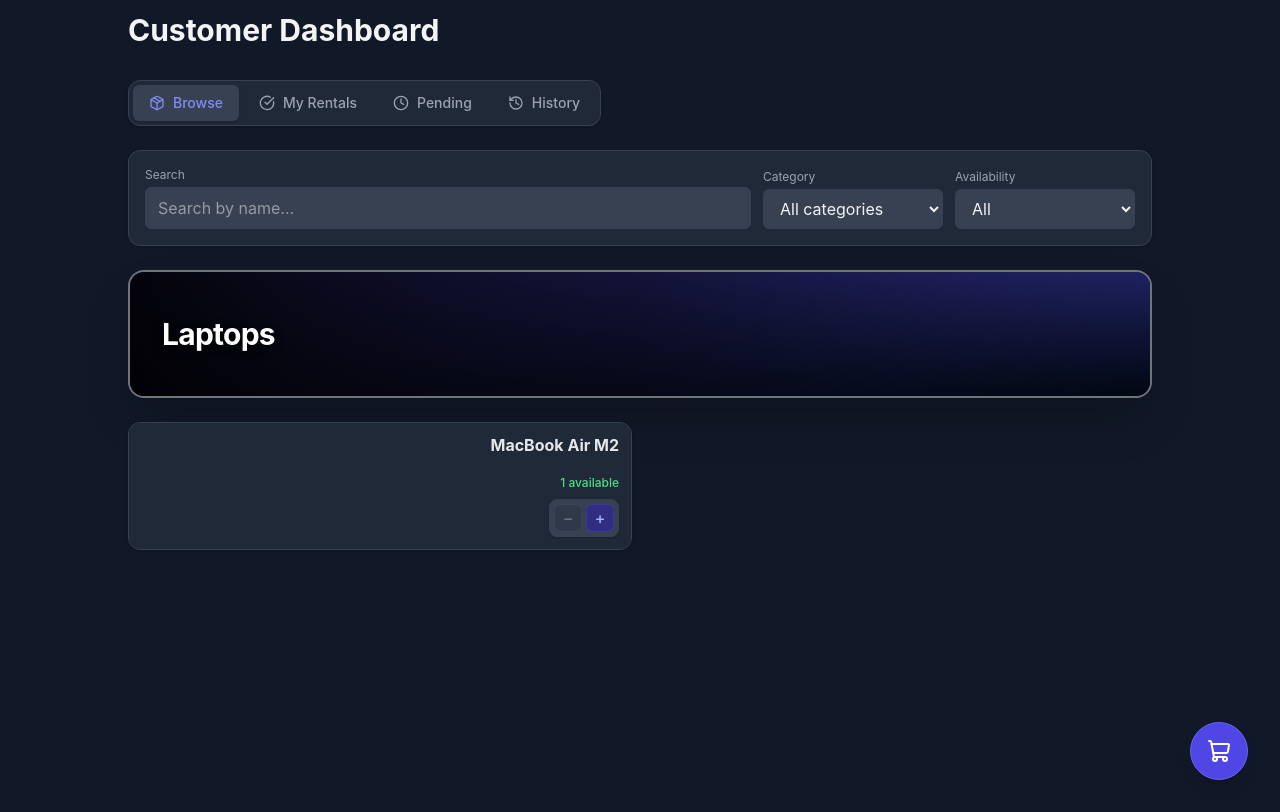
Test: CustomerDashboard — tab switching › switching to "History" shows the rental history empty state
Click the button "History" at (544, 103), box [492,85,596,121]
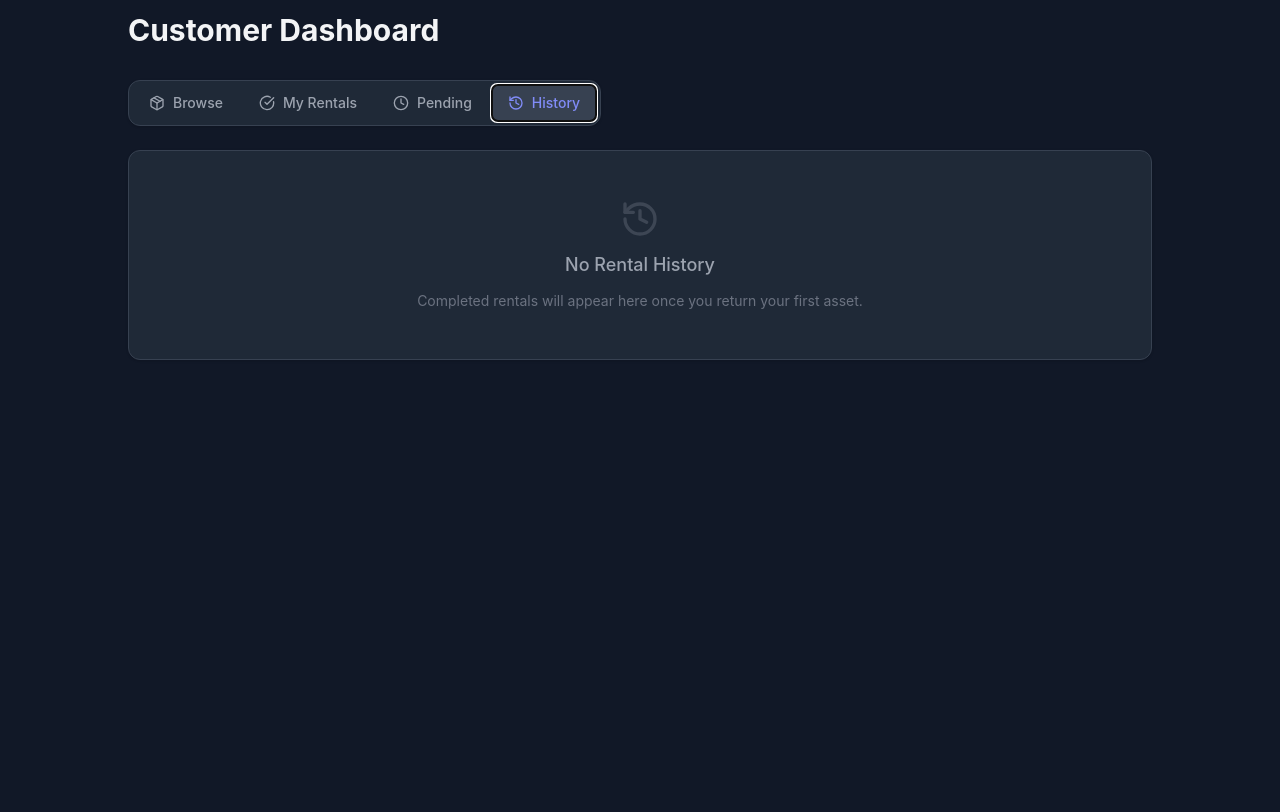
Check: the heading "Laptops" is gone
Check: the text "No Rental History" is shown, box [565,251,715,279]
